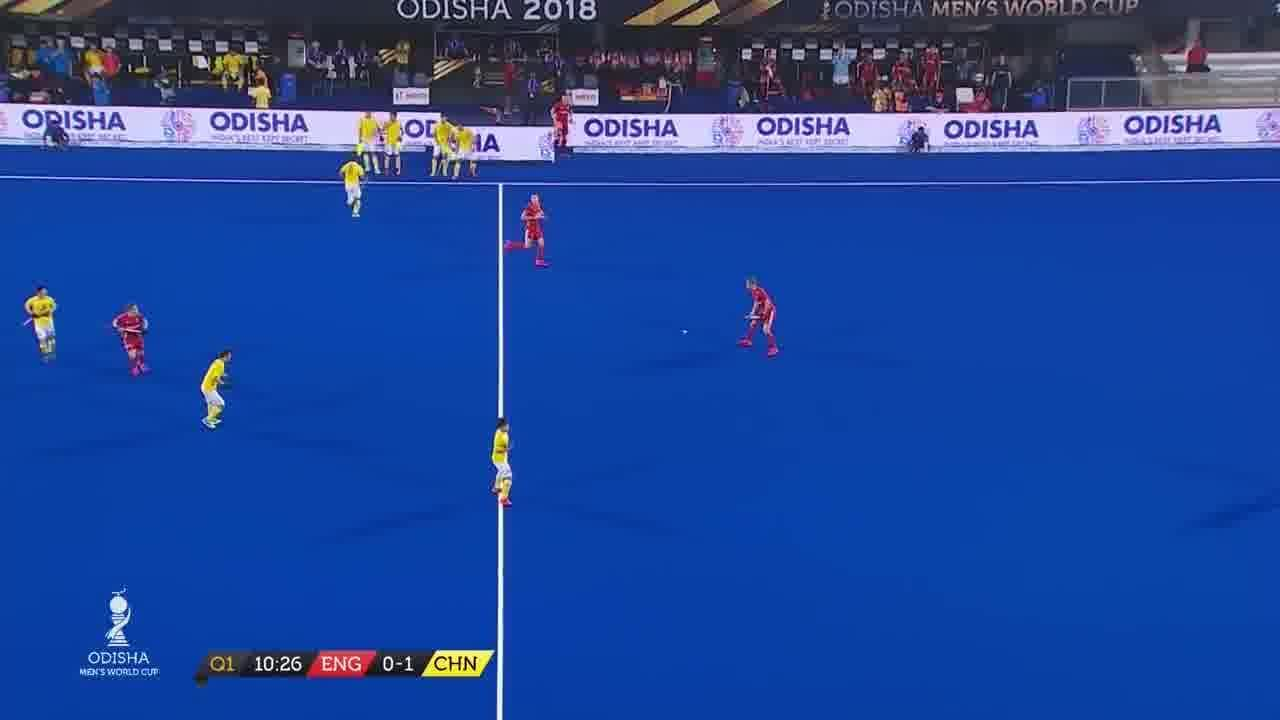ball: (676, 326, 694, 339)
